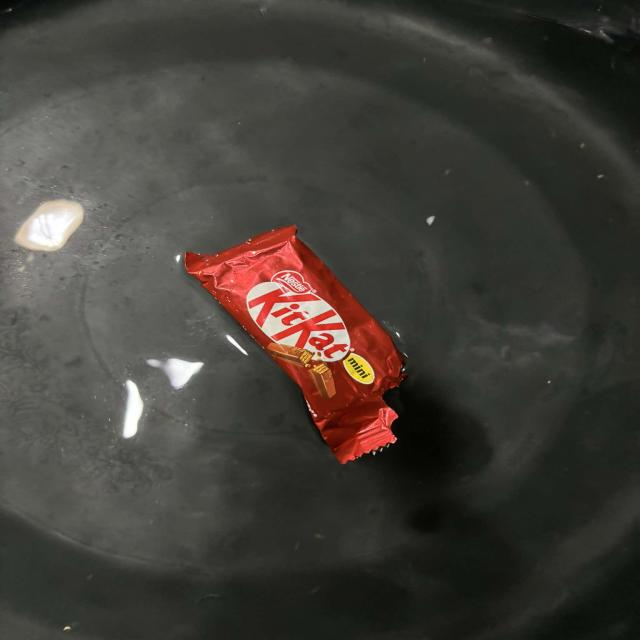Plastic Wrapper: (184, 226, 405, 463)
